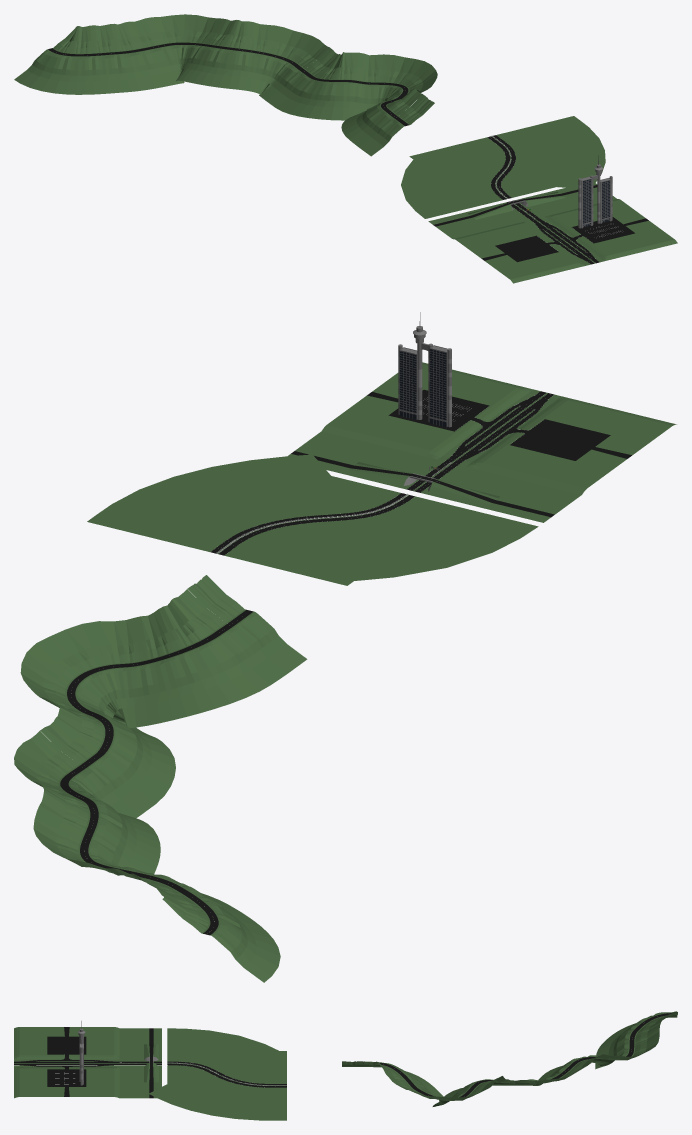
Rendered from road_pieces.fbx.
3 views of the same model, one above another, from view 1: azimuth 30°, elevation 25°; view 2: azimuth 150°, elevation 25°; view 3: azimuth 270°, elevation 25° (orthographic). The views are drawn at different scales.
Parts seen in each view (by area): view 1: put_bosna_3, autoput_kriva, put_bosna_2, autoput_start, autoput_nadvoznjak, autoput_middle, put_bosna_prav, genex, genex_stan, genex_posl; view 2: autoput_kriva, put_bosna_2, autoput_start, put_bosna_3, autoput_middle, autoput_nadvoznjak, put_bosna_prav, genex_stan, genex, genex_posl; view 3: autoput_kriva, autoput_start, put_bosna_3, put_bosna_2, autoput_middle, autoput_nadvoznjak, genex.
Boxes of the visible parts, x1,y1,x2,y2 form: put_bosna_3: (14, 14, 329, 100); autoput_kriva: (401, 116, 605, 218); put_bosna_2: (266, 47, 437, 147); autoput_start: (453, 199, 677, 283); autoput_nadvoznjak: (428, 183, 597, 229); autoput_middle: (440, 192, 616, 238); put_bosna_prav: (359, 94, 434, 156); genex: (578, 155, 612, 228); genex_stan: (581, 176, 592, 228); genex_posl: (600, 178, 611, 223); autoput_kriva: (87, 454, 538, 585); put_bosna_2: (20, 589, 287, 814); autoput_start: (322, 362, 676, 494); put_bosna_3: (14, 731, 280, 982); autoput_middle: (302, 431, 581, 508); autoput_nadvoznjak: (288, 445, 562, 522); put_bosna_prav: (187, 575, 307, 673); genex_stan: (429, 345, 447, 427); genex: (398, 312, 451, 427); genex_posl: (399, 347, 417, 419); autoput_kriva: (149, 1028, 286, 1120); autoput_start: (14, 1027, 119, 1098); put_bosna_3: (525, 1011, 677, 1085); put_bosna_2: (363, 1061, 525, 1106); autoput_middle: (119, 1028, 140, 1098); autoput_nadvoznjak: (141, 1028, 161, 1098); genex: (78, 1021, 85, 1085).
Bounding box in the file's own units: 63941 × 20910 × 125528.
